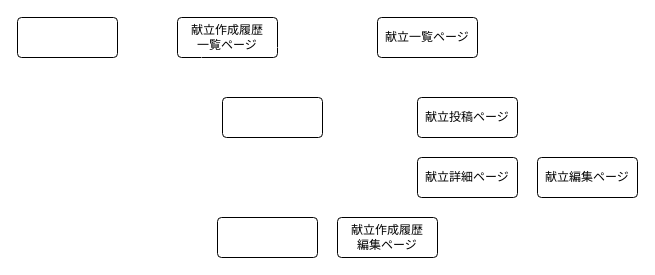
Image size: 655x275. Some labels were removed from this diagram. The centre of each missing label's shape, as x and y in pixels:
サインイン/ ログインページ: point (67, 37)
献立作成履歴 投稿ページ: point (272, 117)
献立作成履歴 詳細ページ: point (267, 237)
